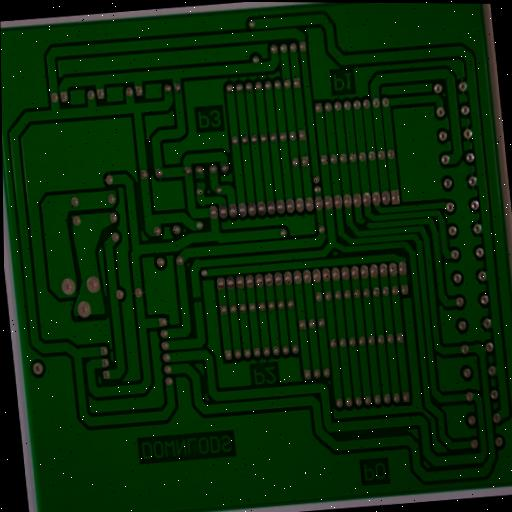open_circuit: (191, 292, 205, 307), (360, 217, 372, 229), (195, 175, 207, 185)
